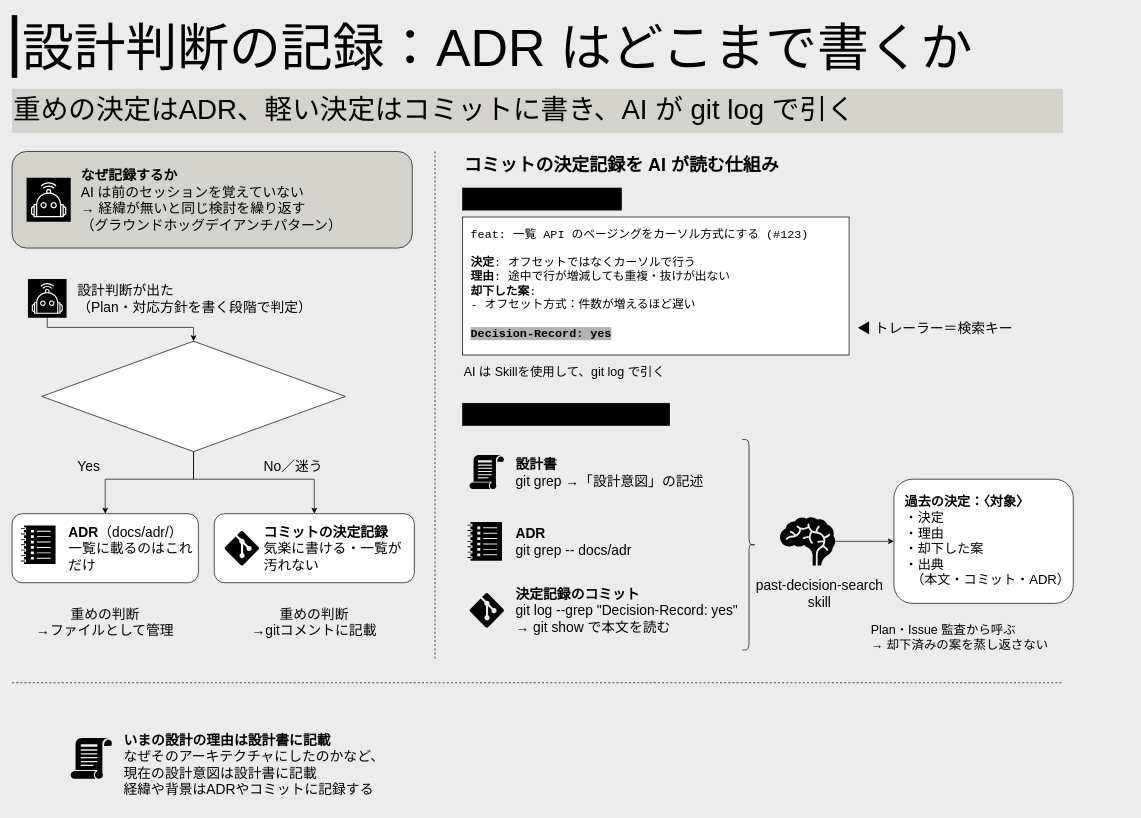
Image size: 1141x818. Some labels were removed from this diagram. Each missing label, with the centre of its shape:
① 書く（/git-commit）: the point at 541,198
② 引く（/past-decision-search）: the point at 566,414
後から「なぜこうした？」と 問われそう 後戻り困難な決定: the point at 193,396
